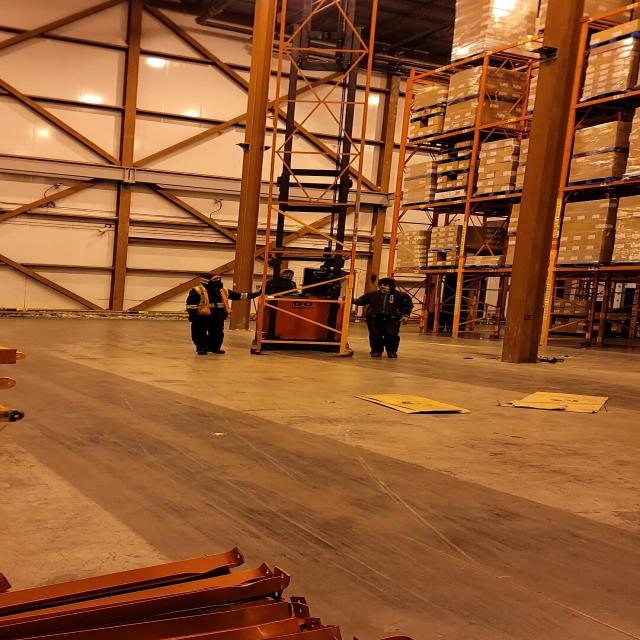forklift: (246, 172, 362, 360)
human: (179, 272, 263, 358), (352, 272, 416, 360), (259, 268, 308, 296)
objectofinterest: (255, 42, 362, 365), (493, 386, 614, 414), (355, 389, 471, 417)
